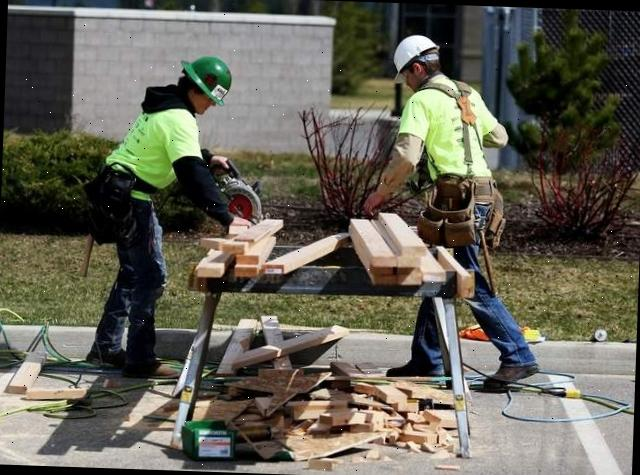helmet: (385, 31, 439, 90), (182, 53, 235, 105)
no_wear: (418, 74, 491, 182), (109, 99, 185, 200)
